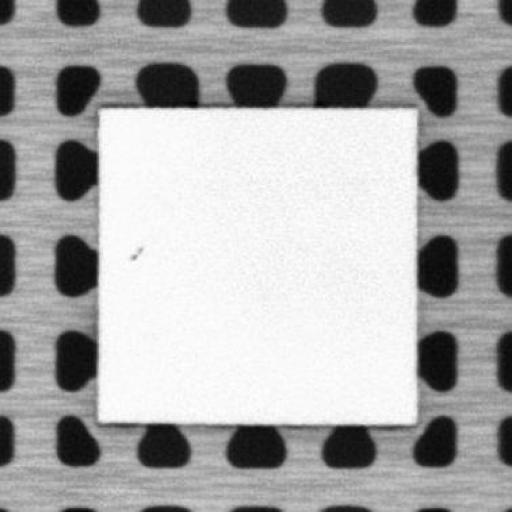DIE_INK: (125, 243, 145, 264)
